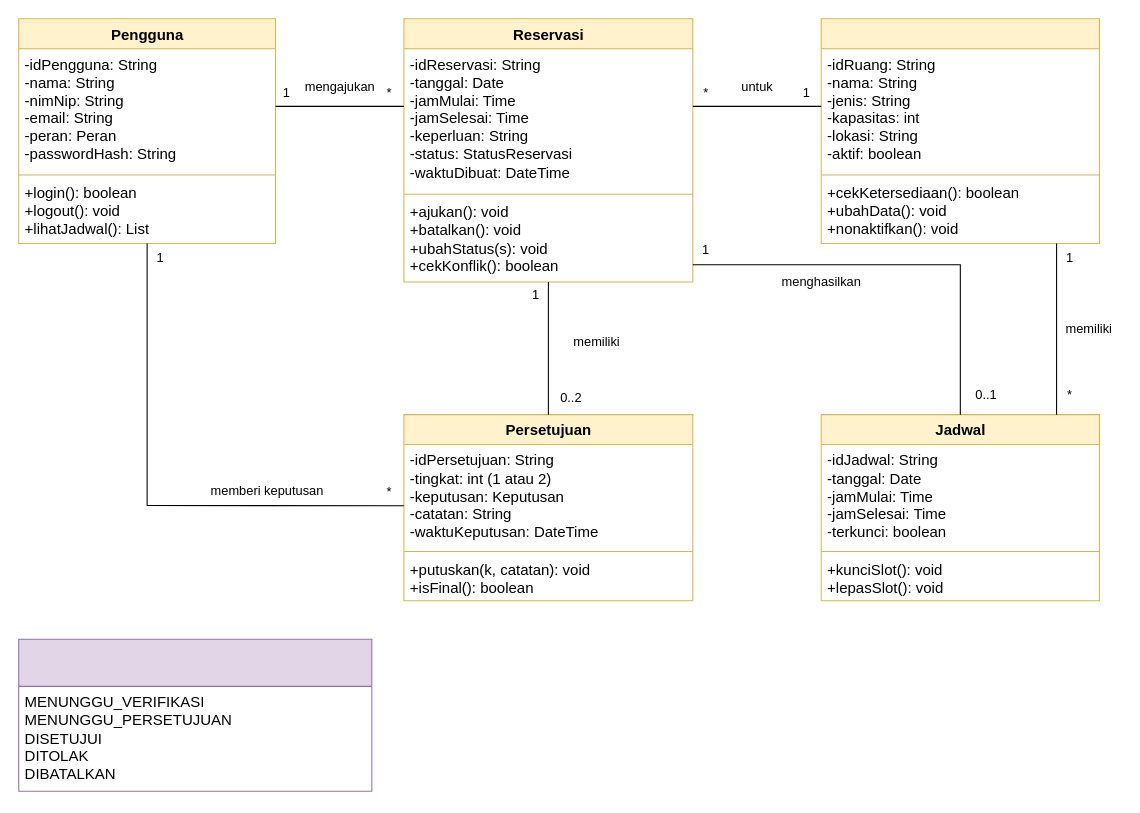
This 1140x813 diagram has some shape labels left out. The box of each missing label's shape, as (x1, y1, x2, y2) in pixels:
Ruang/Lab: (820, 18, 1099, 243)
«enumeration» StatusReservasi: (18, 638, 372, 791)
